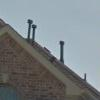Chimney: (22, 14, 46, 49)
